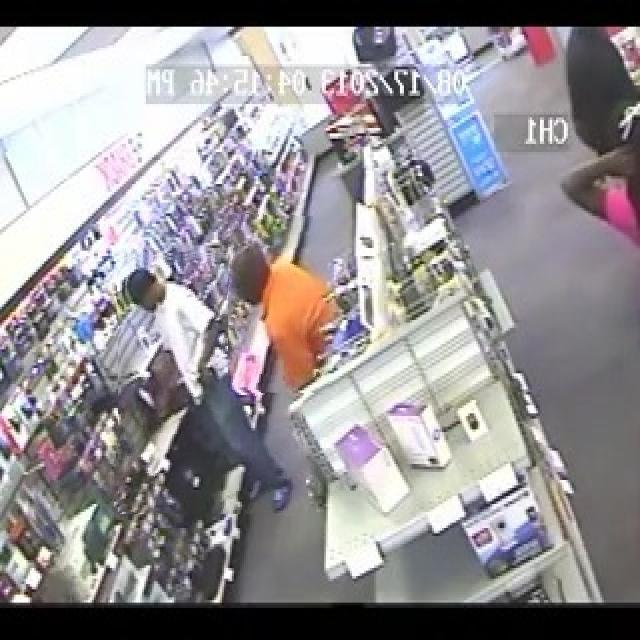Normal: (117, 252, 306, 514), (228, 214, 332, 393)
